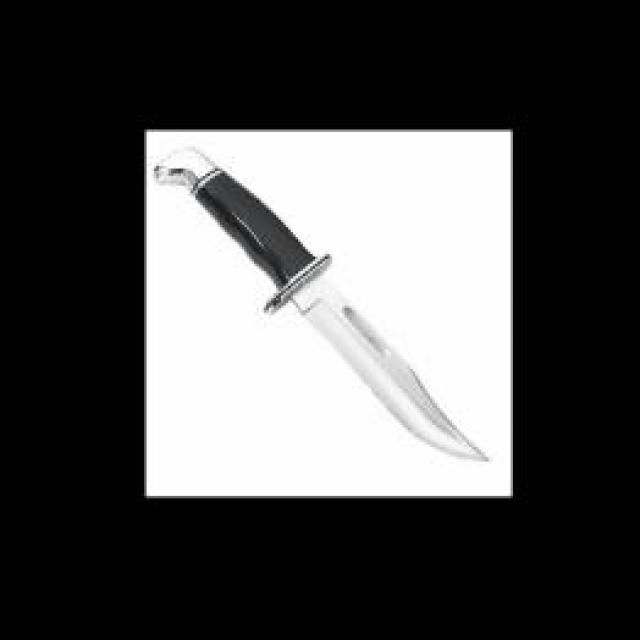knife: (156, 140, 501, 472)
